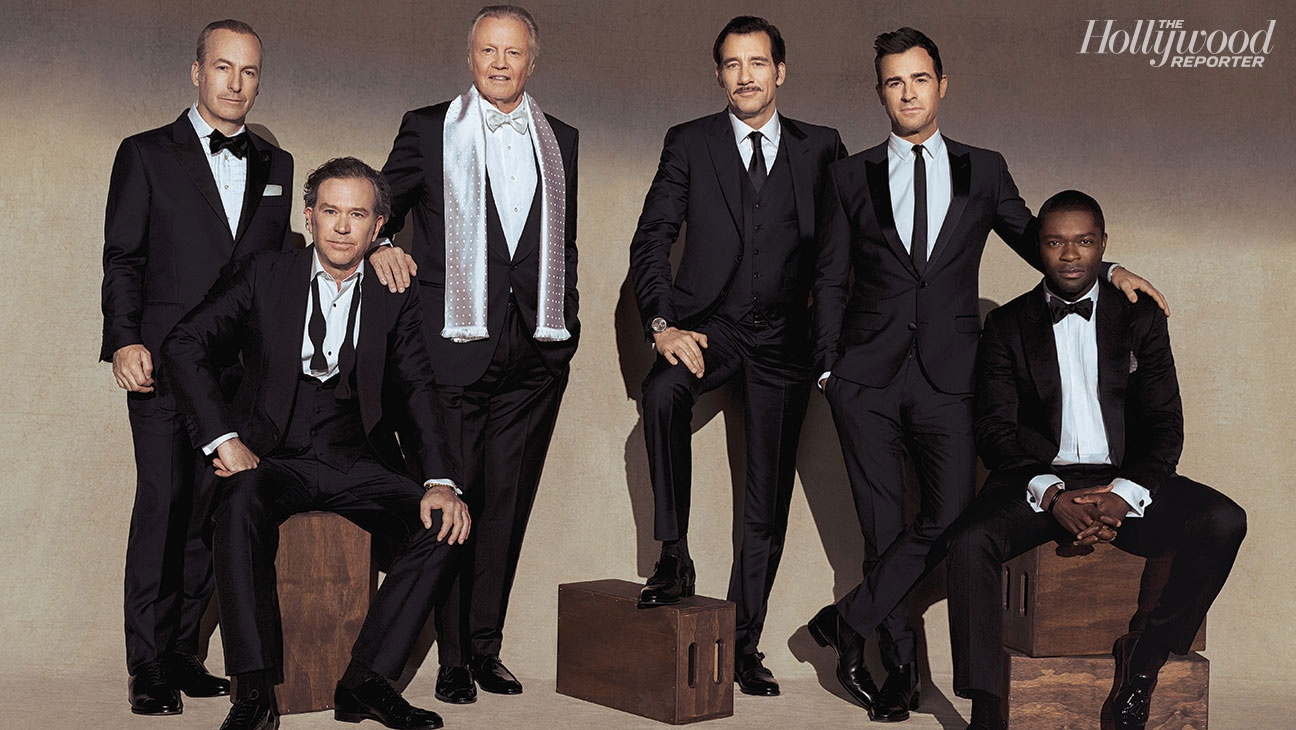bad: (1040, 225, 1103, 288), (875, 66, 937, 129), (716, 46, 778, 108), (467, 32, 529, 94), (315, 198, 377, 260), (204, 53, 266, 115)
